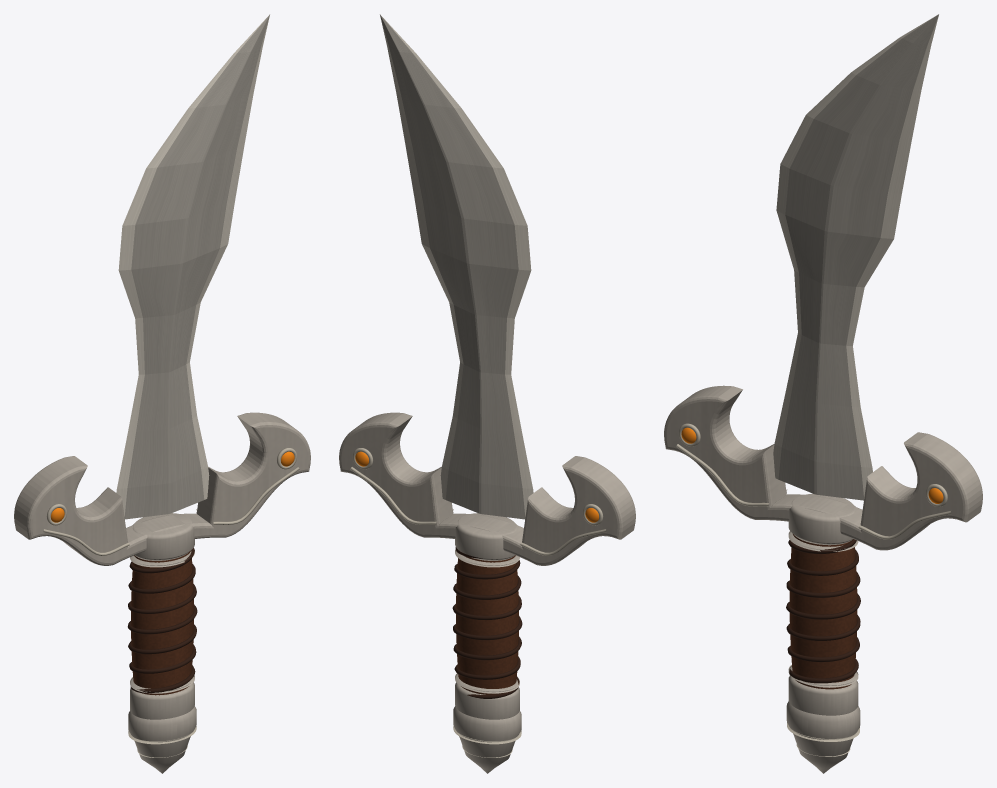
Rendered from emberite_dagger.glb.
The picture shows the model from 3 angles, left to right: view 1: azimuth 30°, elevation 25°; view 2: azimuth 150°, elevation 25°; view 3: azimuth 330°, elevation 25°; orthographic projection. The views are drawn at different scales.
Visible parts, largest first — view 1: titanium-blade-facets, titanium-guard-and-pommel, titanium-polished-honed-bevels, titanium-leather, titanium-grip-seam, titanium-raised-metal-ornament; view 2: titanium-blade-facets, titanium-guard-and-pommel, titanium-polished-honed-bevels, titanium-leather, titanium-grip-seam, titanium-raised-metal-ornament; view 3: titanium-blade-facets, titanium-guard-and-pommel, titanium-polished-honed-bevels, titanium-leather, titanium-grip-seam, titanium-raised-metal-ornament.
Boxes of the visible parts, left/top/right/bottom form: titanium-blade-facets: left=124, top=14, right=269, bottom=519; titanium-guard-and-pommel: left=14, top=412, right=310, bottom=773; titanium-polished-honed-bevels: left=116, top=15, right=269, bottom=516; titanium-leather: left=131, top=551, right=193, bottom=695; titanium-grip-seam: left=127, top=547, right=197, bottom=693; titanium-raised-metal-ornament: left=43, top=448, right=299, bottom=757; titanium-blade-facets: left=380, top=14, right=525, bottom=519; titanium-guard-and-pommel: left=339, top=412, right=635, bottom=773; titanium-polished-honed-bevels: left=380, top=15, right=533, bottom=516; titanium-leather: left=456, top=555, right=518, bottom=694; titanium-grip-seam: left=452, top=547, right=522, bottom=698; titanium-raised-metal-ornament: left=350, top=448, right=606, bottom=757; titanium-blade-facets: left=778, top=14, right=938, bottom=500; titanium-guard-and-pommel: left=664, top=385, right=982, bottom=773; titanium-polished-honed-bevels: left=773, top=15, right=938, bottom=498; titanium-leather: left=789, top=534, right=857, bottom=689; titanium-grip-seam: left=786, top=539, right=860, bottom=683; titanium-raised-metal-ornament: left=676, top=423, right=951, bottom=756.
Size of the model in its own units: 0.1553 by 0.384 by 0.0279.
8 materials, 7 textured.
